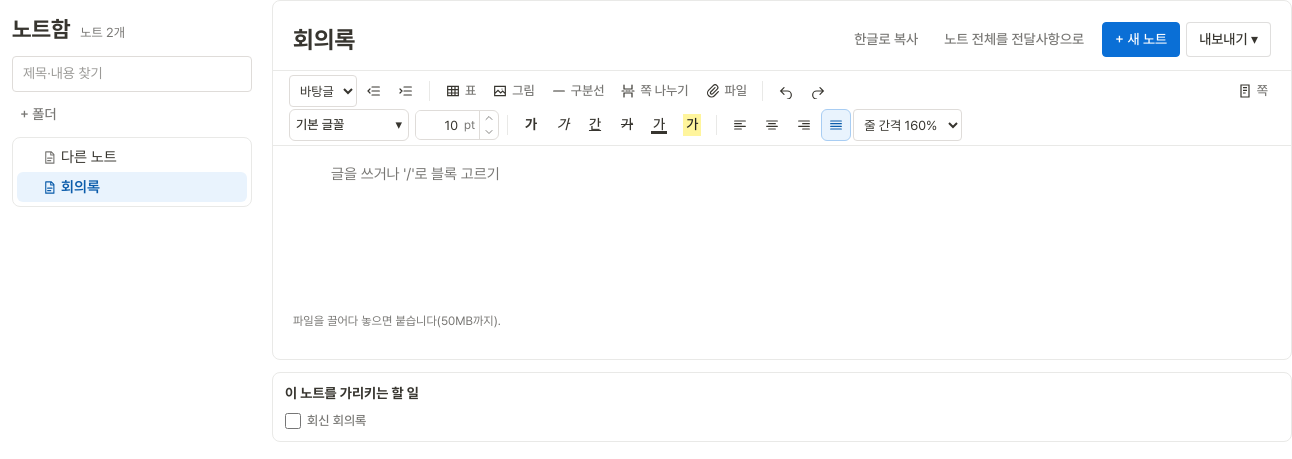
Test: / 메뉴는 띄어쓴 이름(제목 1)도 거르고, Esc로 닫으면 글로 남는다
Check: the field showing "회의록" is shown, box [293, 17, 834, 62]
Click the field named "블록" at (800, 174), box [329, 159, 1271, 189]
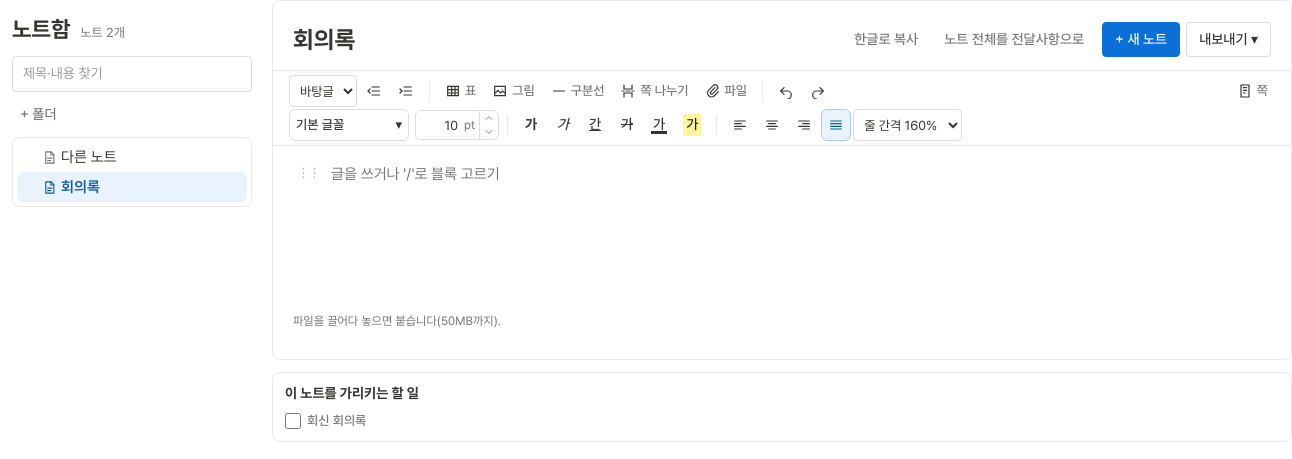
Type keys "/제목 1"
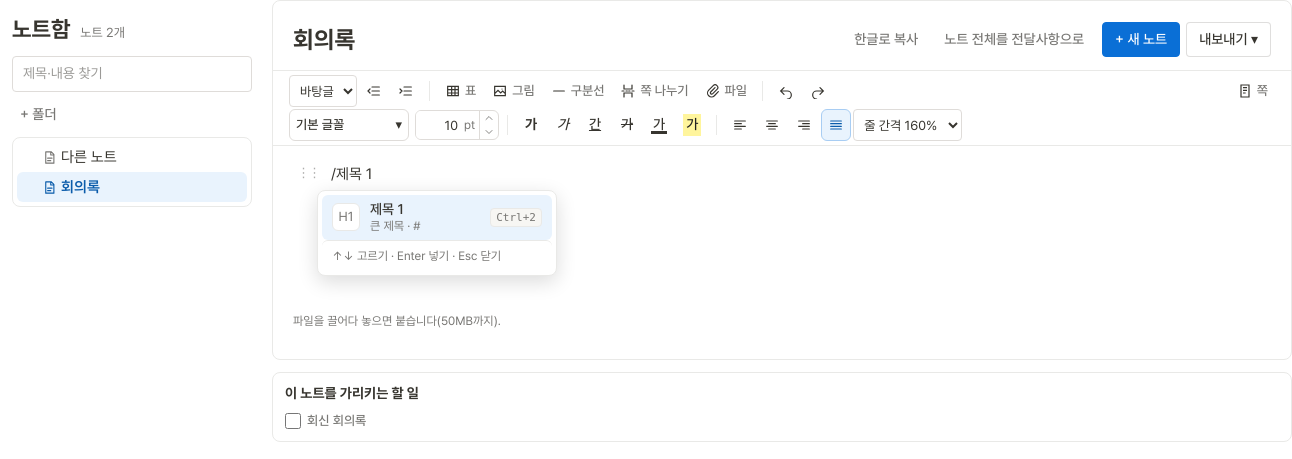
Check: the option "H1 제목 1 큰 제목 · # Ctrl+2" is shown, box [322, 195, 552, 240]
Press Enter
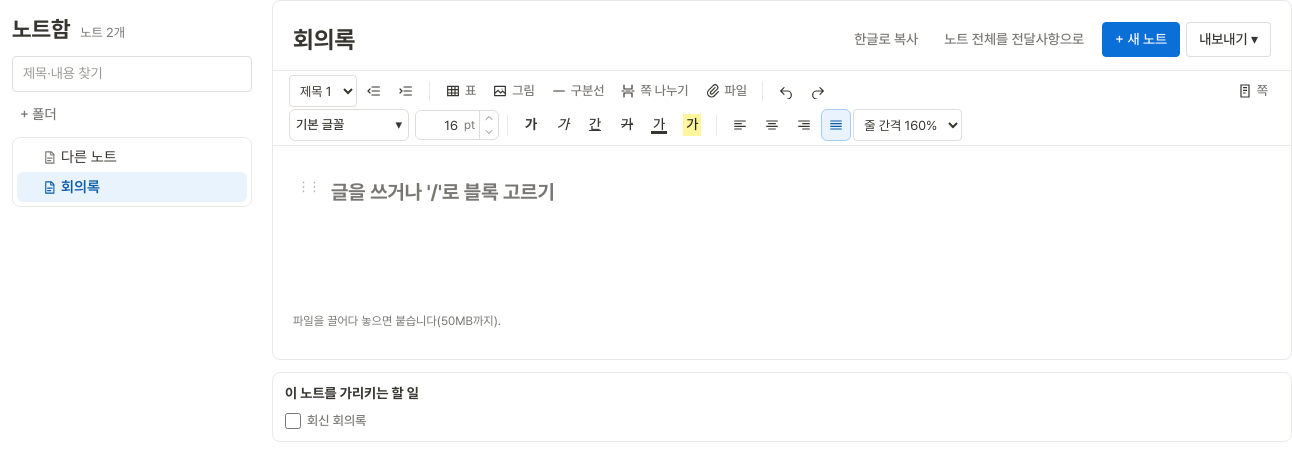
Check: the field named "블록" is empty, box [329, 173, 1271, 211]
Type keys "/없는것{Escape}"
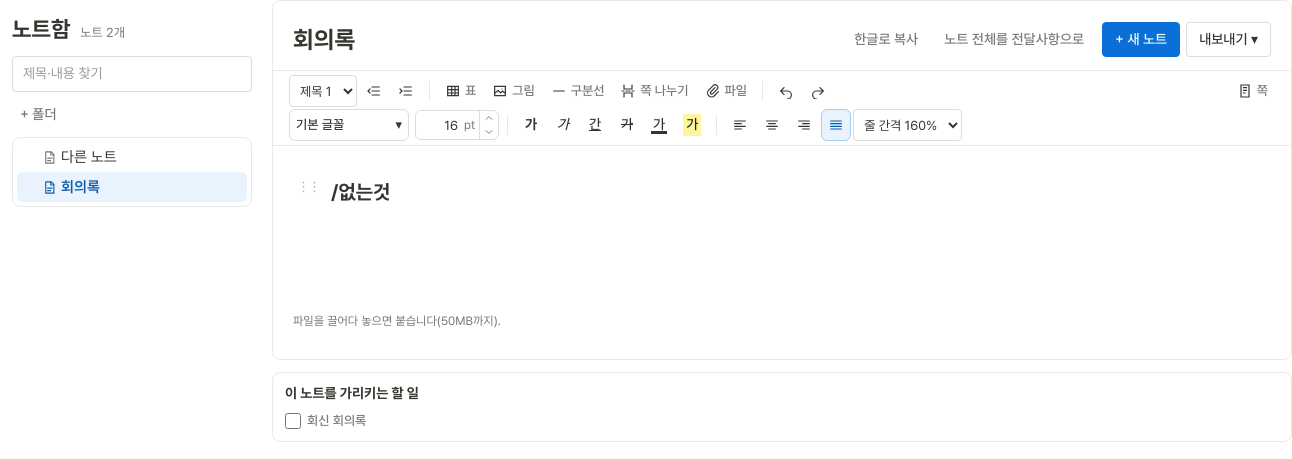
Check: the field named "블록" reads "/없는것", box [331, 180, 390, 204]
